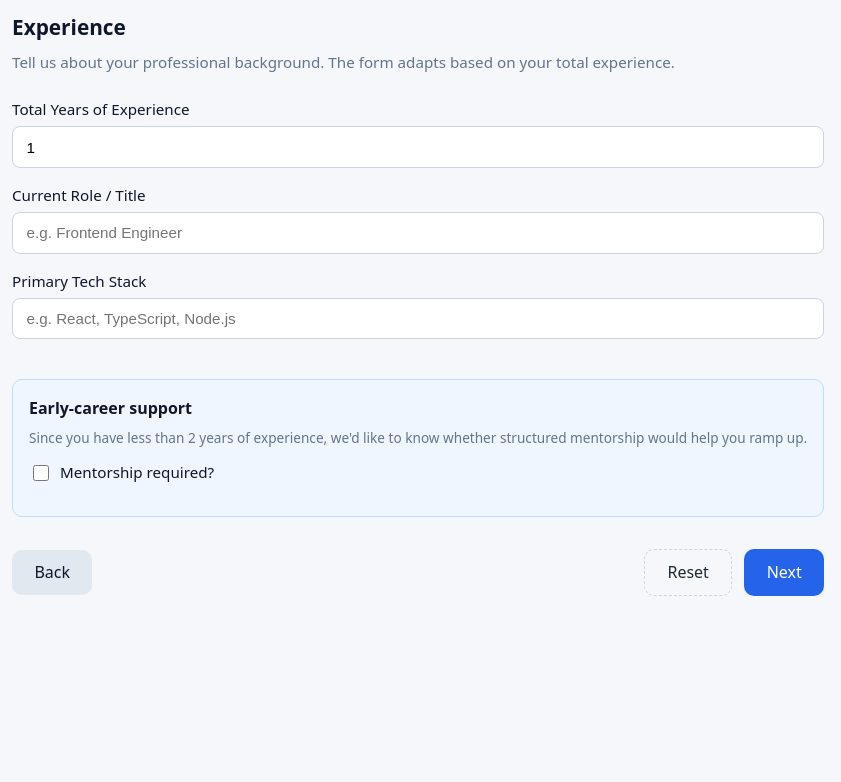
Test: ExperienceStep › shows advanced fields and hides mentorship when years >= 2
The width and height of the screenshot is (841, 782).
Clear the number field labelled "Total Years of Experience" at (418, 147), box [12, 126, 824, 168]
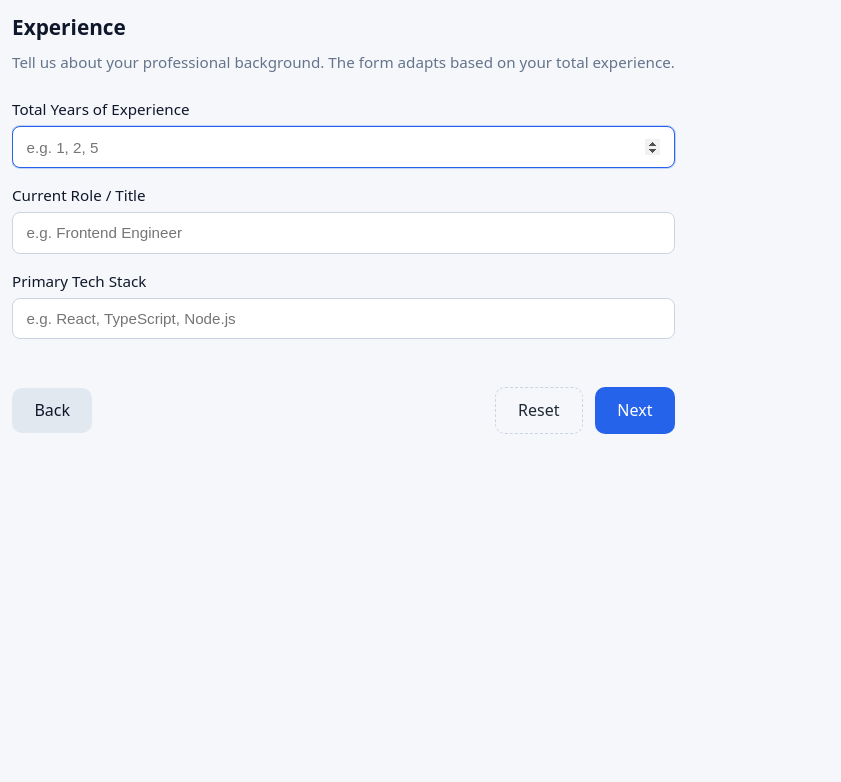
Type "3" into the number field labelled "Total Years of Experience".
click(343, 147); type("3")  # box [12, 126, 675, 168]
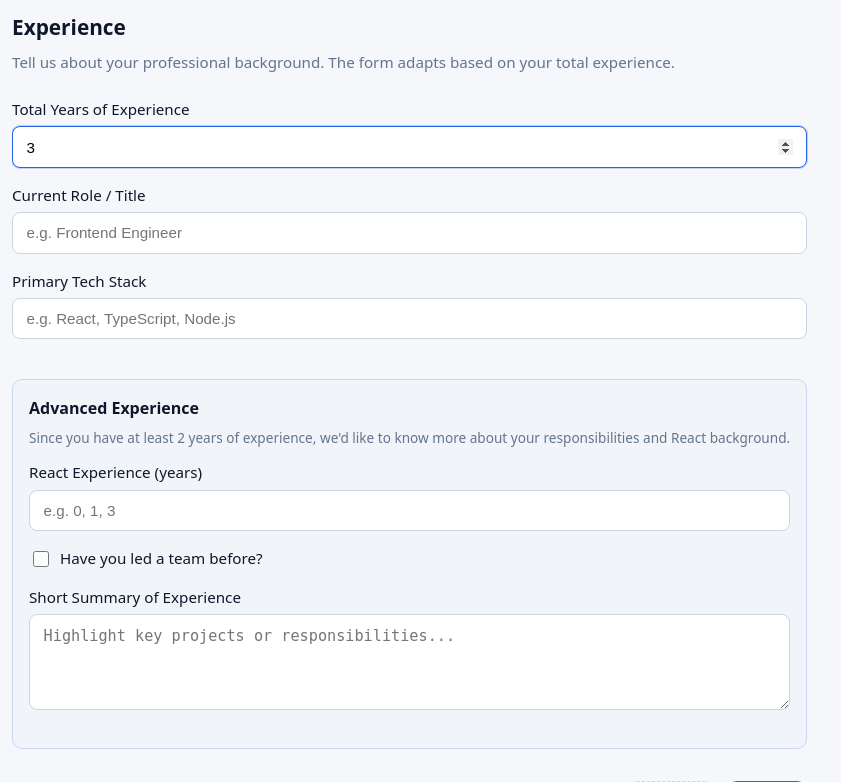
Expected: the heading "Early-career support" is not shown
Now the number field labelled "React Experience (years)" is shown, box [29, 490, 790, 531]
Now the checkbox labelled "Have you led a team before?" is shown, box [33, 551, 49, 567]
